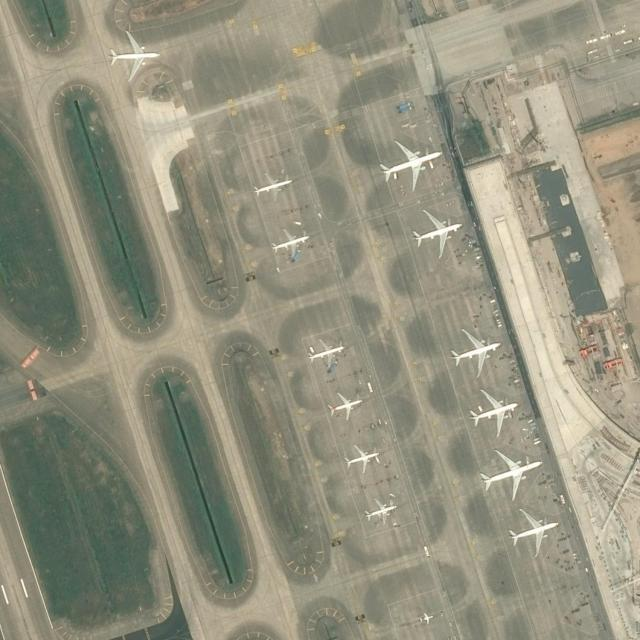Aircraft: (376, 139, 442, 194), (479, 448, 543, 501), (105, 30, 161, 84), (465, 387, 519, 437), (448, 328, 500, 379), (505, 508, 558, 557), (413, 208, 461, 258), (251, 172, 295, 202), (269, 229, 310, 261), (305, 339, 343, 369), (324, 392, 362, 422), (342, 444, 378, 475), (362, 498, 398, 526), (416, 612, 434, 628)
